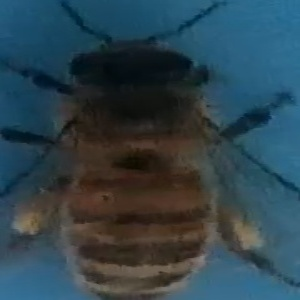bee: (13, 3, 285, 300)
